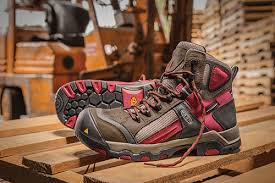Shoes: (58, 62, 242, 149)
